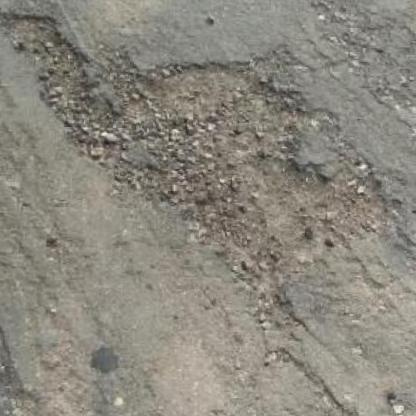pothole: (72, 33, 403, 312), (0, 9, 95, 157)
